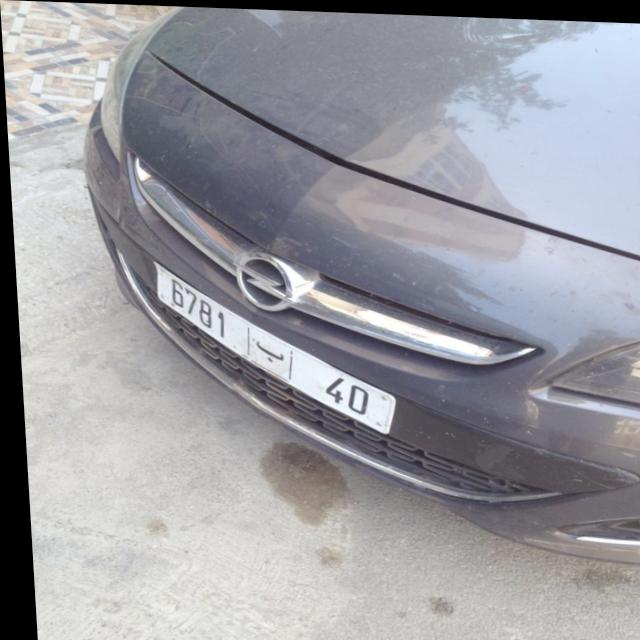License-Plate: (152, 264, 390, 431)
